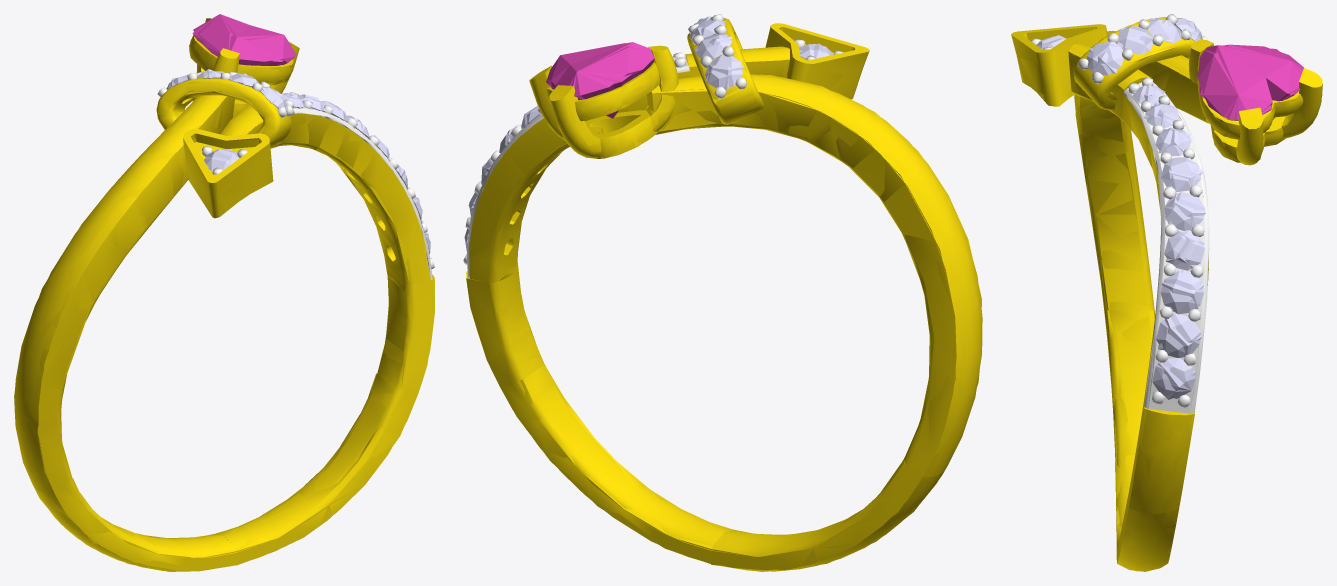
The model's file is DLR-D000733325.glb.
3 renders of one model, left to right at view 1: azimuth 30°, elevation 25°; view 2: azimuth 150°, elevation 25°; view 3: azimuth 270°, elevation 25°, orthographic. The views are drawn at different scales.
Visible parts, largest first — view 1: highPolyMesh, lowPolyMesh; view 2: highPolyMesh, lowPolyMesh; view 3: highPolyMesh, lowPolyMesh.
Boxes of the visible parts, box(x1,y1,x2,y2) form: highPolyMesh: box(14, 14, 434, 571); lowPolyMesh: box(14, 14, 434, 571); highPolyMesh: box(463, 14, 982, 571); lowPolyMesh: box(463, 14, 981, 571); highPolyMesh: box(1011, 15, 1322, 571); lowPolyMesh: box(1011, 14, 1321, 571).
Size of the model in its own units: 0.0195 by 0.0209 by 0.0112.
